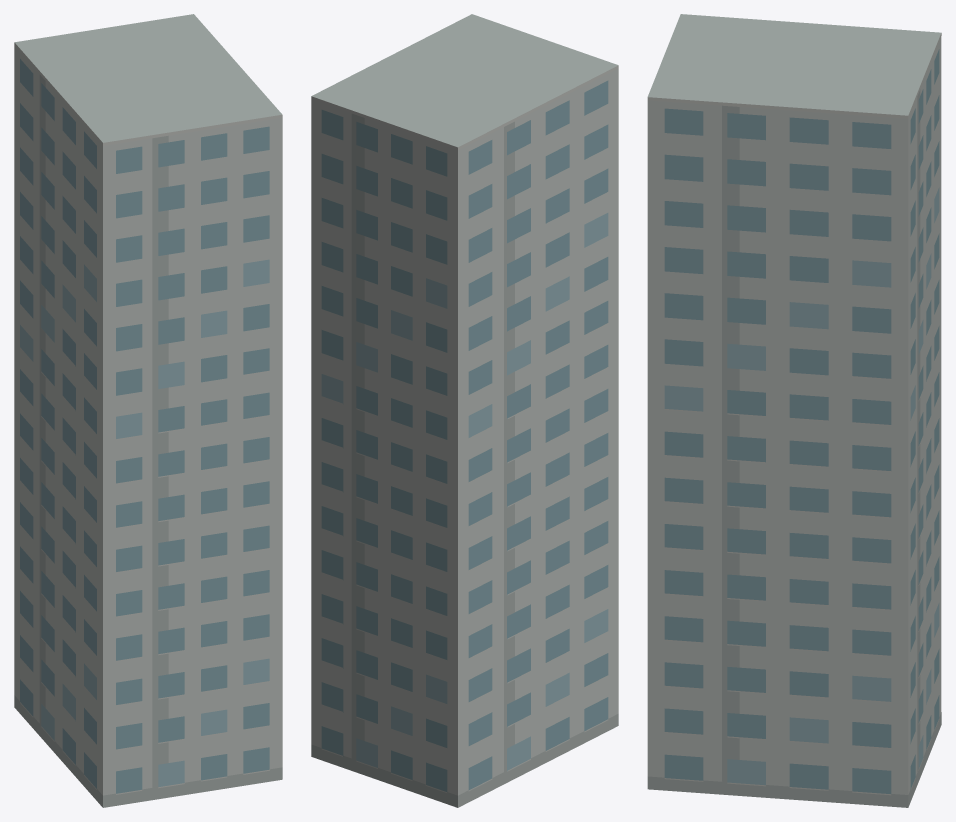
Rendered from residential-537338df-12b7-4399-b0cd-eb4e9a019121.glb.
3 renders of one model, left to right at view 1: azimuth 30°, elevation 25°; view 2: azimuth 150°, elevation 25°; view 3: azimuth 270°, elevation 25°, orthographic. The views are drawn at different scales.
Parts seen in each view (by area): view 1: residential-537338df-12b7-4399-b0cd-eb4e9a019121.tmp; view 2: residential-537338df-12b7-4399-b0cd-eb4e9a019121.tmp; view 3: residential-537338df-12b7-4399-b0cd-eb4e9a019121.tmp.
Boxes of the visible parts, x1,y1,x2,y2 form: residential-537338df-12b7-4399-b0cd-eb4e9a019121.tmp: (14,14,282,807); residential-537338df-12b7-4399-b0cd-eb4e9a019121.tmp: (311,14,618,807); residential-537338df-12b7-4399-b0cd-eb4e9a019121.tmp: (647,14,941,807).
Bounding box in the file's own units: 16.08 × 51 × 19.64.
